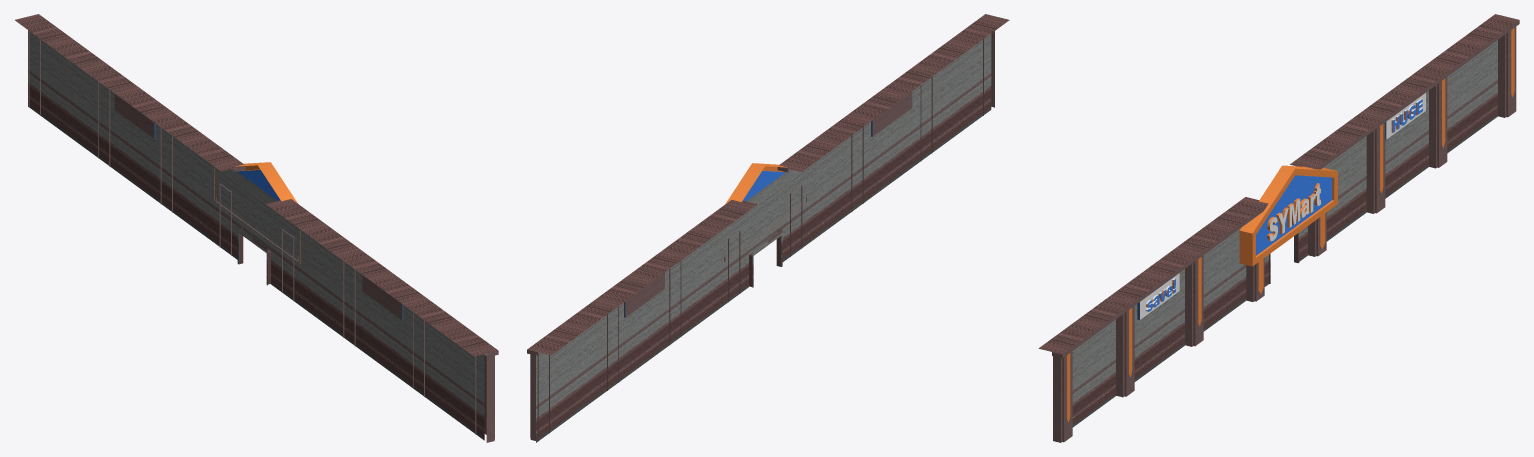
File: OW_Mall_Facade_01.FBX
The picture shows the model from 3 angles, left to right: view 1: azimuth 30°, elevation 25°; view 2: azimuth 150°, elevation 25°; view 3: azimuth 330°, elevation 25°; orthographic projection.
Parts seen in each view (by area): view 1: OW_Mall_Facade_01; view 2: OW_Mall_Facade_01; view 3: OW_Mall_Facade_01.
Boxes of the visible parts, x1,y1,x2,y2 form: OW_Mall_Facade_01: (15, 14, 498, 442); OW_Mall_Facade_01: (527, 14, 1009, 442); OW_Mall_Facade_01: (1038, 14, 1519, 442).
Size of the model in its own units: 219 by 823 by 6279.
